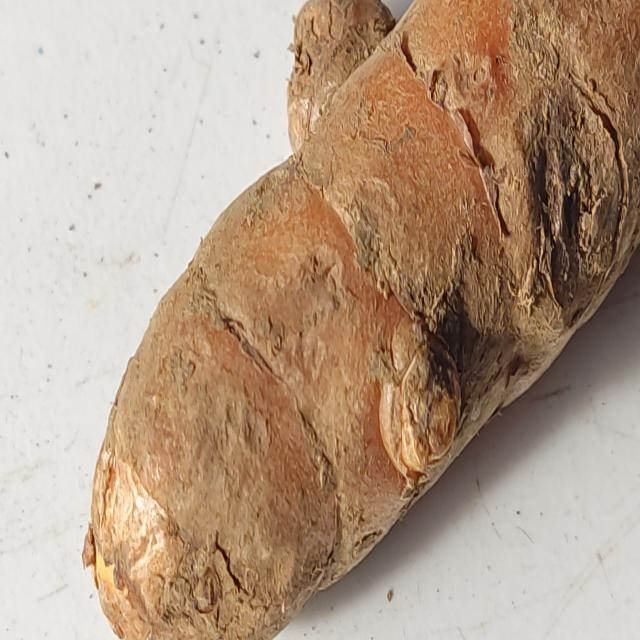ginger: (94, 3, 640, 580)
